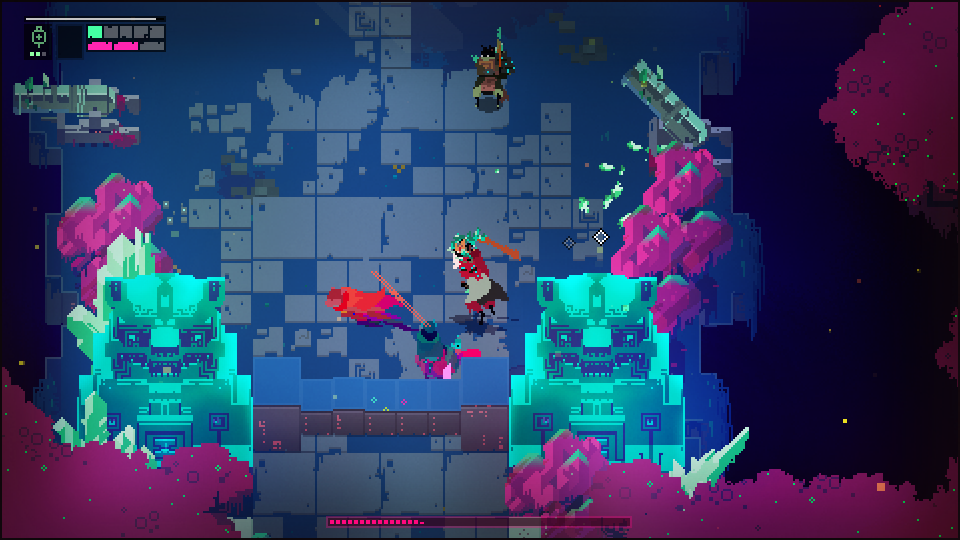hanged_man: (441, 227, 524, 328)
player: (325, 279, 404, 329)
